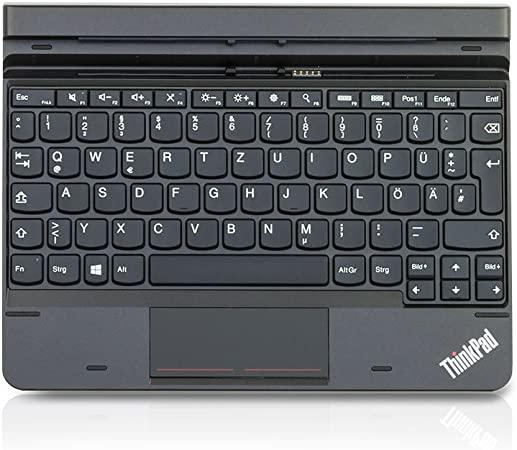0: (369, 112, 402, 143)
1: (38, 111, 71, 141)
2: (75, 111, 108, 142)
3: (111, 111, 145, 142)
4: (149, 112, 181, 141)
5: (185, 112, 218, 142)
6: (222, 112, 255, 142)
7: (259, 113, 292, 142)
8: (296, 112, 328, 142)
9: (332, 112, 365, 142)
a: (56, 182, 89, 212)
accent: (437, 112, 465, 142)
ae: (424, 182, 448, 213)
alt-left: (111, 253, 146, 286)
altgr-right: (332, 253, 366, 285)
b: (221, 218, 255, 249)
c: (149, 219, 182, 249)
caret: (10, 110, 34, 141)
comma: (332, 218, 365, 248)
d: (129, 182, 162, 213)
del: (469, 111, 503, 143)
e: (121, 147, 153, 177)
enter: (471, 148, 503, 214)
f: (167, 182, 199, 213)
g: (202, 182, 236, 213)
h: (240, 182, 273, 213)
hash: (451, 182, 476, 215)
i: (304, 147, 337, 177)
j: (277, 182, 310, 212)
k: (314, 182, 346, 213)
keyboard: (3, 85, 510, 306)
l: (350, 182, 383, 213)
less: (46, 217, 71, 248)
m: (295, 219, 329, 249)
minus: (405, 218, 439, 249)
n: (258, 218, 291, 248)
o: (340, 147, 373, 178)
oe: (387, 182, 420, 214)
p: (378, 148, 412, 179)
plus: (442, 147, 466, 177)
point: (369, 218, 402, 249)
q: (46, 146, 79, 177)
r: (157, 147, 190, 177)
s: (92, 182, 126, 212)
shift-left: (9, 217, 43, 248)
shift-lock: (9, 182, 52, 212)
shift-right: (443, 218, 504, 250)
space: (148, 254, 330, 285)
ss: (406, 112, 433, 142)
strg-left: (46, 253, 80, 284)
strg-right: (368, 253, 402, 285)
t: (194, 147, 227, 177)
tab: (9, 146, 43, 177)
u: (267, 147, 300, 178)
ue: (414, 147, 438, 177)
v: (185, 217, 218, 248)
w: (83, 146, 116, 177)
x: (111, 217, 145, 251)
y: (74, 217, 107, 248)
z: (231, 147, 264, 177)
